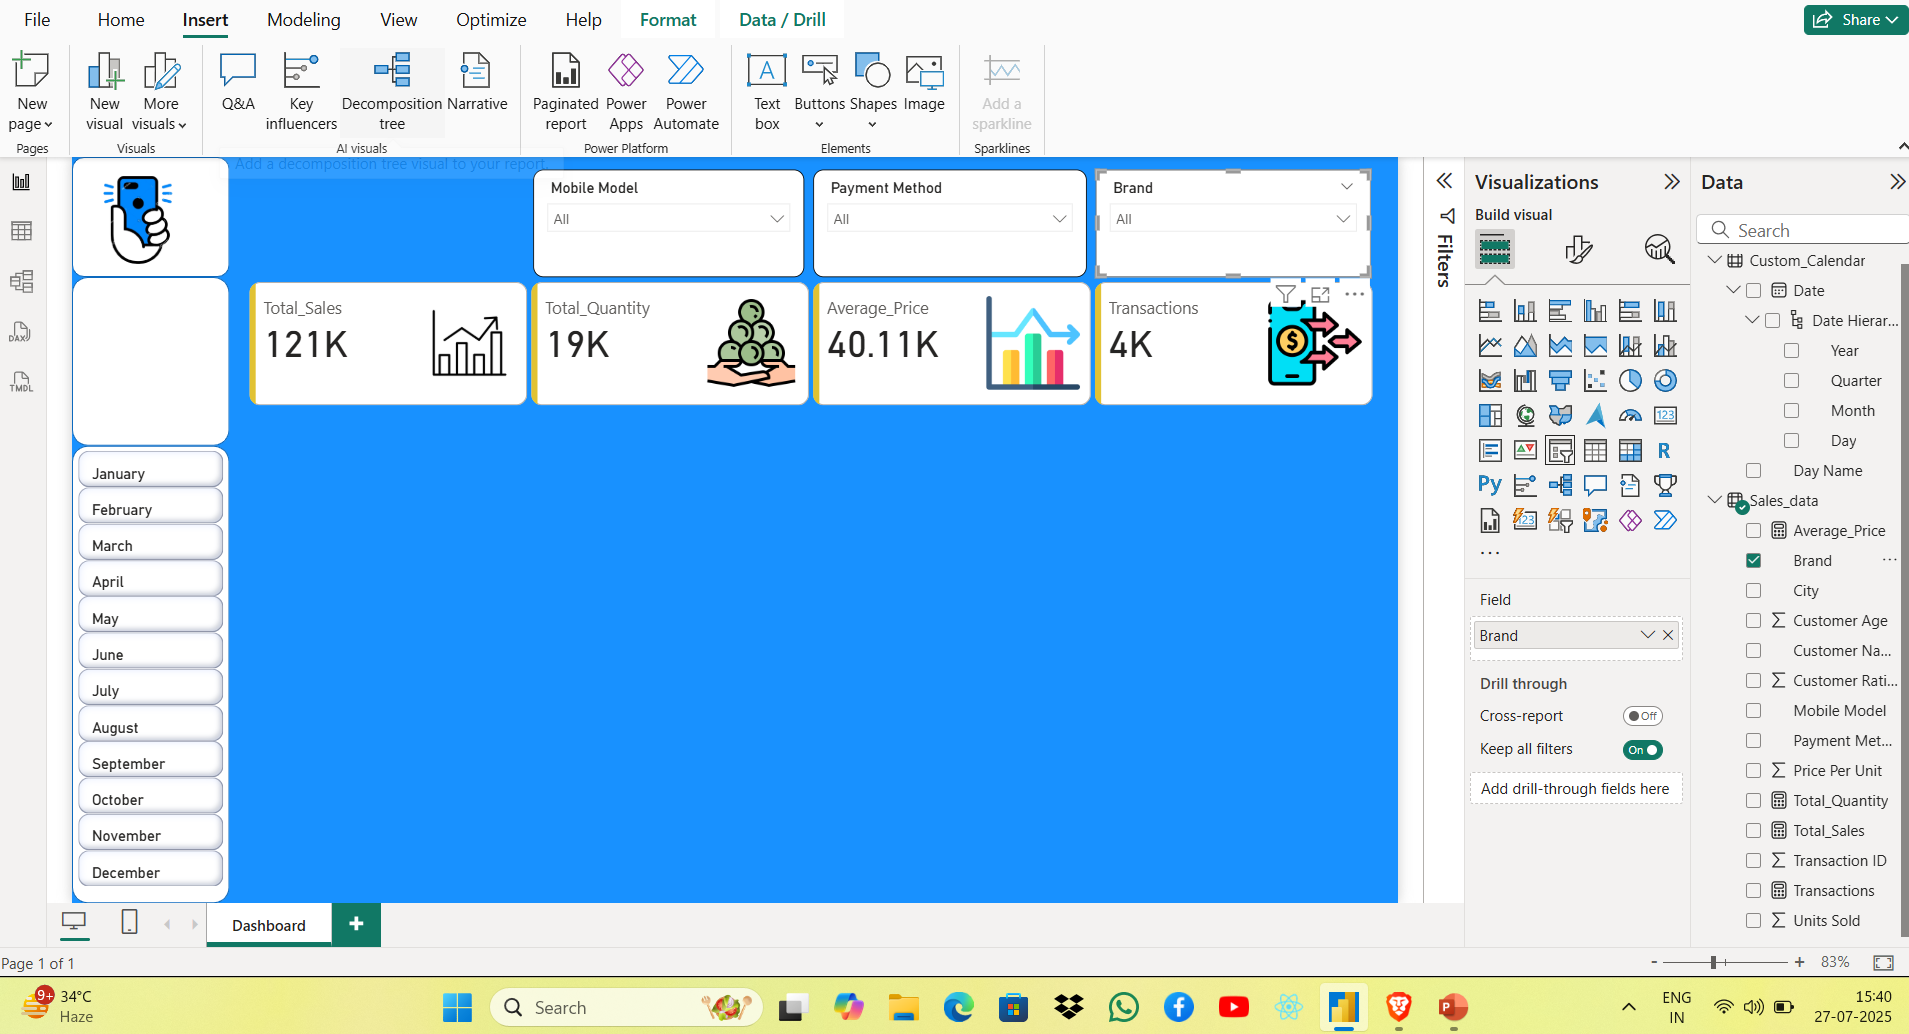

What the dashboard file says about the page in this screenshot:
{"tool":"powerbi","page":{"name":"Dashboard","canvas":[1280,720],"ordinal":0},"visuals":[{"type":"shape","box":[0,0,142.4,108.6],"z":0},{"type":"image","box":[0,0,127.9,127.9],"z":1000},{"type":"shape","box":[0,115.8,152,162.9],"z":2000},{"type":"shape","box":[0,278.7,152,441.6],"z":3000},{"type":"advancedSlicerVisual","fields":{"Values":["Custom_Calendar.Date.Variation.Date Hierarchy.Month"]},"box":[1.2,278.7,150.8,441.6],"z":4000},{"type":"cardVisual","fields":{"Data":["Sales_data.Total_Sales","Sales_data.Total_Quantity","Sales_data.Average_Price","Sales_data.Transactions"]},"box":[152,117,1128,107.4],"z":5000},{"type":"slicer","fields":{"Values":["Sales_data.Mobile Model"]},"box":[459.7,1.2,241.3,107.4],"z":6000},{"type":"slicer","fields":{"Values":["Sales_data.Payment Method"]},"box":[716.6,4.8,264.2,103.8],"z":7000},{"type":"slicer","fields":{"Values":["Sales_data.Brand"]},"box":[996.5,8.4,270.2,100.1],"z":8000},{"type":"shape","box":[300.4,0,138.7,108.6],"z":9000},{"type":"image","box":[278.7,8.4,182.2,90.5],"z":10000},{"type":"shape","box":[419.8,49.5,41,31.4],"z":11000},{"type":"shape","box":[152,0,139.9,108.6],"z":12000},{"type":"textbox","box":[164.1,30.2,117,68.8],"z":13000},{"type":"map","fields":{"Category":["Sales_data.City"],"Size":["Sales_data.Total_Sales"]},"box":[164.1,224.4,255.8,250.9],"z":14000},{"type":"lineChart","fields":{"Category":["Custom_Calendar.Date.Variation.Date Hierarchy.Month"],"Y":["Sales_data.Total_Quantity"]},"box":[438.8,225,827.5,150],"z":15000},{"type":"funnel","title":" Ratings by Rating status","fields":{"Y":["Sum(Sales_data.Customer Ratings)"],"Category":["Sales_data.Rating status"]},"box":[440.4,388.5,381.2,126.7],"z":16000},{"type":"pieChart","title":" Transaction ID by Payment Method","fields":{"Y":["CountNonNull(Sales_data.Transaction ID)"],"Category":["Sales_data.Payment Method"]},"box":[834.9,389.7,431.9,126.7],"z":17000},{"type":"clusteredBarChart","fields":{"Y":["Sales_data.Total_Sales"],"Category":["Sales_data.Mobile Model"]},"box":[440.4,532,381.2,174.9],"z":18000},{"type":"areaChart","fields":{"Category":["Sales_data.Mobile Model","Custom_Calendar.Day Name"],"Y":["Sales_data.Total_Sales"]},"box":[834.9,532,431.9,170.1],"z":19000},{"type":"tableEx","fields":{"Values":["Sales_data.Brand","Sales_data.Total_Sales","Sales_data.Transactions"]},"box":[164.1,485,255.8,235.3],"z":20000},{"type":"pageNavigator","box":[6,142.4,136.3,119.4],"z":21000}]}

Visuals, with their boxes on the page's 1280x720 design canvas (x1, y1, x2, y2). These are canvas units, not pixel positions in the 1909x1034 screenshot, which may show the page scaled, cropped or inside an application window:
shape: x1=0 y1=0 x2=142 y2=109
image: x1=0 y1=0 x2=128 y2=128
shape: x1=0 y1=116 x2=152 y2=279
shape: x1=0 y1=279 x2=152 y2=720
advancedSlicerVisual - Custom_Calendar.Date.Variation.Date Hierarchy.Month: x1=1 y1=279 x2=152 y2=720
cardVisual - Sales_data.Total_Sales x Sales_data.Total_Quantity: x1=152 y1=117 x2=1280 y2=224
slicer - Sales_data.Mobile Model: x1=460 y1=1 x2=701 y2=109
slicer - Sales_data.Payment Method: x1=717 y1=5 x2=981 y2=109
slicer - Sales_data.Brand: x1=996 y1=8 x2=1267 y2=108
shape: x1=300 y1=0 x2=439 y2=109
image: x1=279 y1=8 x2=461 y2=99
shape: x1=420 y1=50 x2=461 y2=81
shape: x1=152 y1=0 x2=292 y2=109
textbox: x1=164 y1=30 x2=281 y2=99
map - Sales_data.City x Sales_data.Total_Sales: x1=164 y1=224 x2=420 y2=475
lineChart - Custom_Calendar.Date.Variation.Date Hierarchy.Month x Sales_data.Total_Quantity: x1=439 y1=225 x2=1266 y2=375
" Ratings by Rating status" funnel: x1=440 y1=388 x2=822 y2=515
" Transaction ID by Payment Method" pieChart: x1=835 y1=390 x2=1267 y2=516
clusteredBarChart - Sales_data.Total_Sales x Sales_data.Mobile Model: x1=440 y1=532 x2=822 y2=707
areaChart - Sales_data.Mobile Model x Custom_Calendar.Day Name: x1=835 y1=532 x2=1267 y2=702
tableEx - Sales_data.Brand x Sales_data.Total_Sales: x1=164 y1=485 x2=420 y2=720
pageNavigator: x1=6 y1=142 x2=142 y2=262
